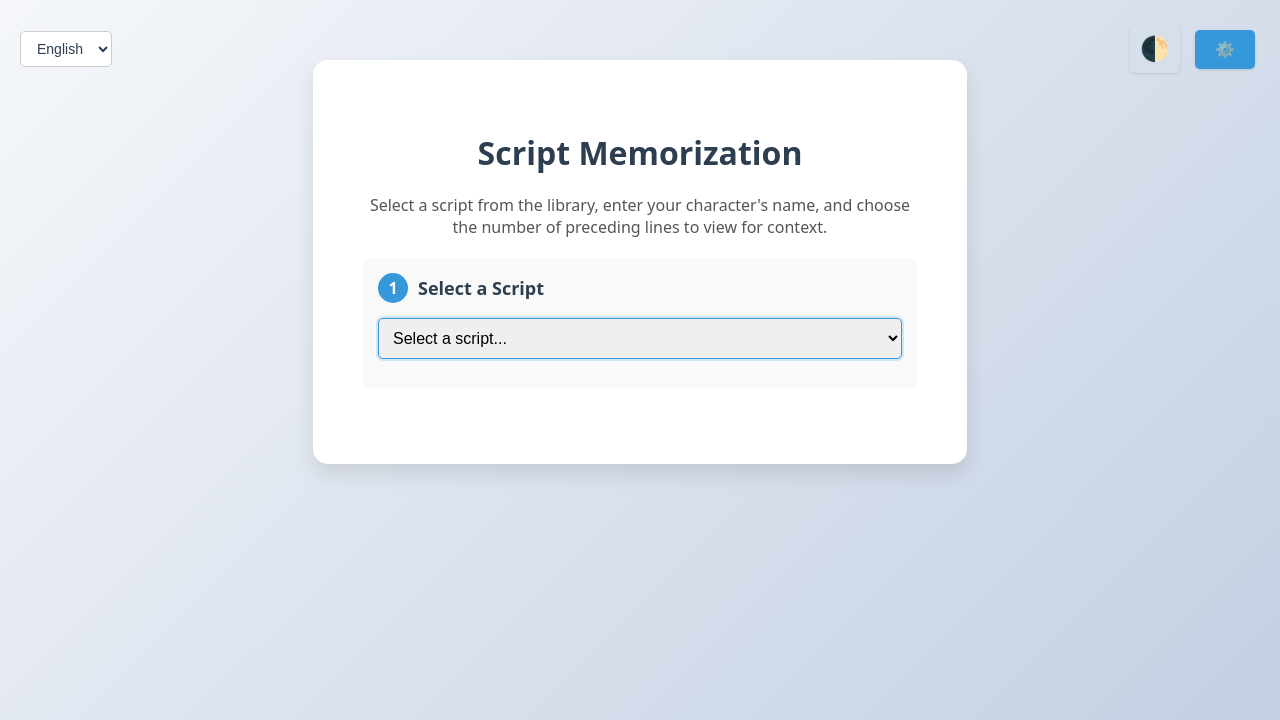
Memorize Tool - Basic Tests › should open options menu
Click the button with id "optionsToggle".
click(1225, 50)  # box [1195, 30, 1255, 69]
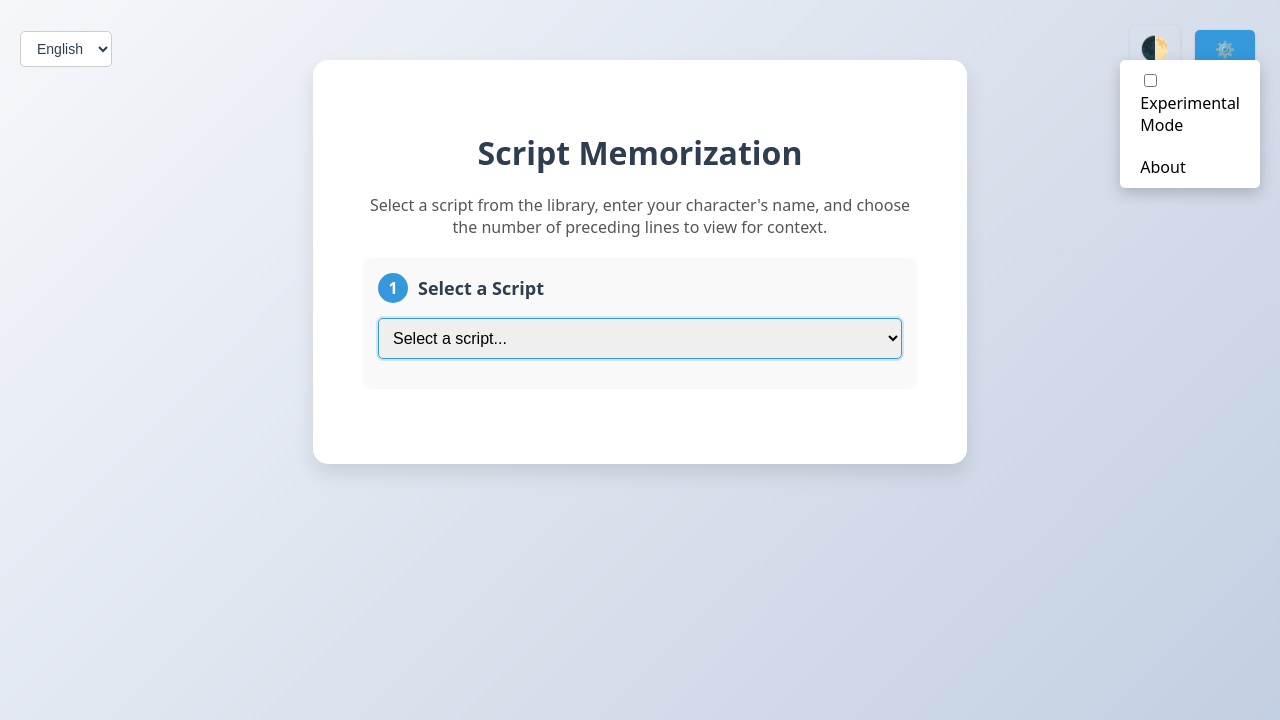
Result: the element with id "optionsMenu" is shown at [1120, 60, 1260, 188]
Result: the list item with id "optionAbout" is shown at [1140, 156, 1185, 178]
